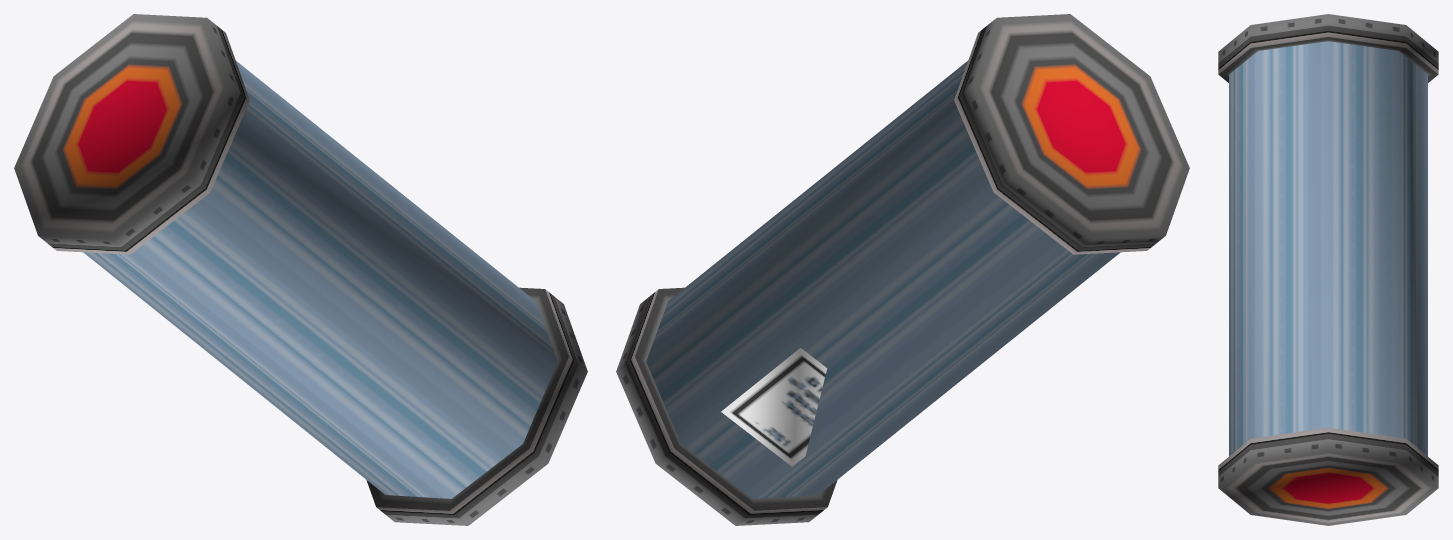
The model's file is icon0.ico.obj.
3 renders of one model, left to right at view 1: azimuth 30°, elevation 25°; view 2: azimuth 150°, elevation 25°; view 3: azimuth 270°, elevation 25°, orthographic. The views are drawn at different scales.
Size of the model in its own units: 4.95 by 4.95 by 2.25.
1 material, 1 textured.
